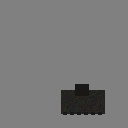armoured_vehicle: (61, 90, 105, 114)
